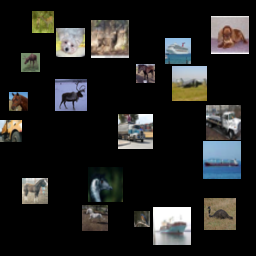bird: (143, 205, 169, 231), (18, 6, 37, 25)
cat: (80, 62, 106, 88), (32, 52, 51, 71)
deer: (93, 97, 131, 135), (46, 109, 75, 138), (169, 159, 191, 181), (10, 194, 32, 216)
frog: (41, 143, 63, 165)
ship: (197, 140, 235, 178), (151, 31, 186, 66), (155, 123, 177, 145), (190, 35, 212, 57), (168, 69, 184, 85), (63, 209, 79, 225)
